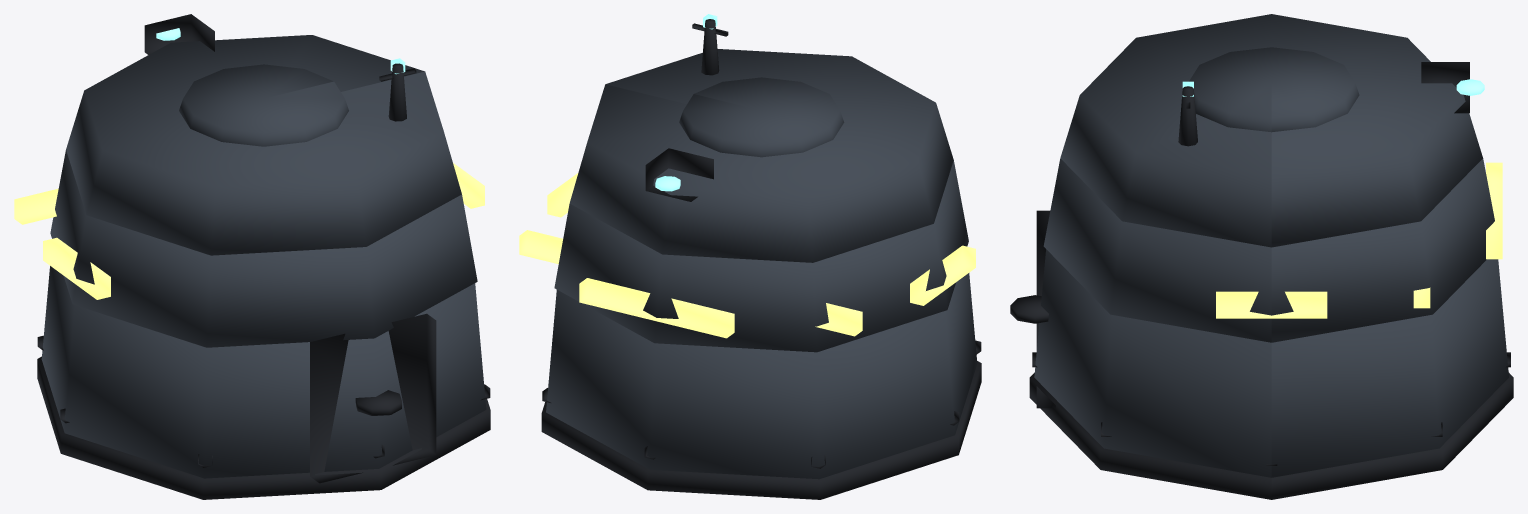
File: bunker.glb
The picture shows the model from 3 angles, left to right: view 1: azimuth 30°, elevation 25°; view 2: azimuth 150°, elevation 25°; view 3: azimuth 270°, elevation 25°; orthographic projection. The views are drawn at different scales.
Visible parts, largest first — view 1: BunkerMesh; view 2: BunkerMesh; view 3: BunkerMesh.
Boxes of the visible parts, x1,y1,x2,y2 form: BunkerMesh: (14, 14, 490, 499); BunkerMesh: (519, 14, 981, 499); BunkerMesh: (1010, 14, 1513, 499).
Bounding box in the file's own units: 3.48 × 2.86 × 3.62.
